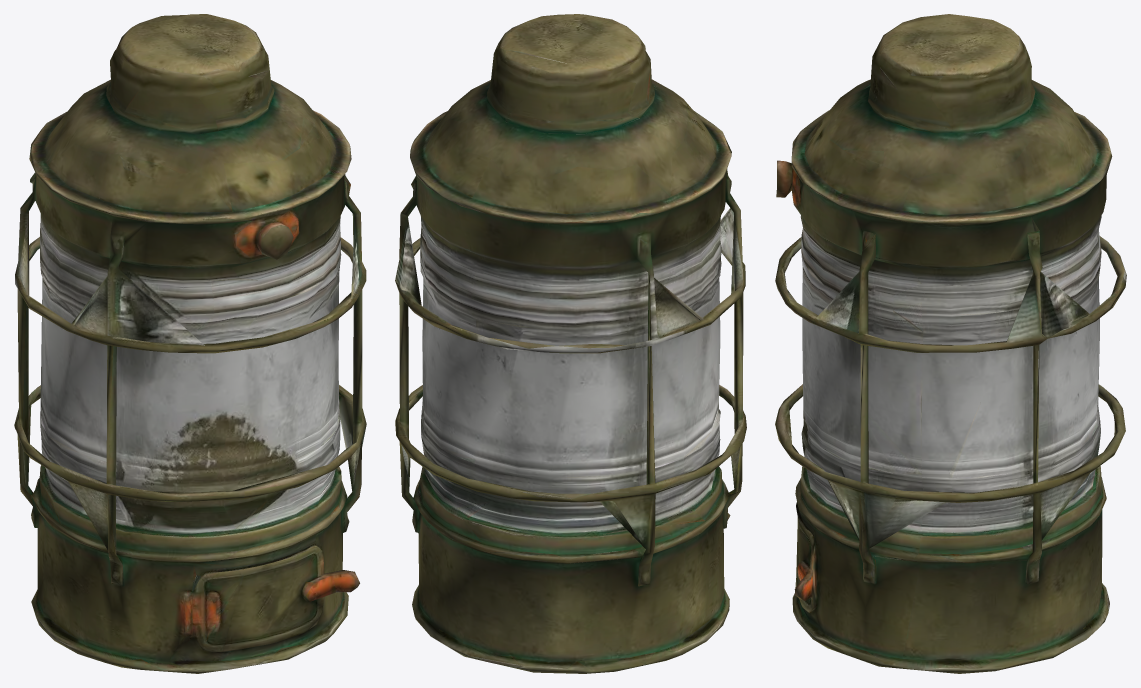
File: beaconlamp.glb
The picture shows the model from 3 angles, left to right: view 1: azimuth 30°, elevation 25°; view 2: azimuth 150°, elevation 25°; view 3: azimuth 270°, elevation 25°; orthographic projection.
Parts seen in each view (by area): view 1: Mesh_0; view 2: Mesh_0; view 3: Mesh_0.
Boxes of the visible parts, box(x1,y1,x2,y2) form: Mesh_0: box(14, 14, 366, 673); Mesh_0: box(395, 14, 746, 673); Mesh_0: box(775, 14, 1126, 673).
Size of the model in its own units: 1.06 by 1.9 by 1.06.
Materials: 1 (1 with a texture image).
